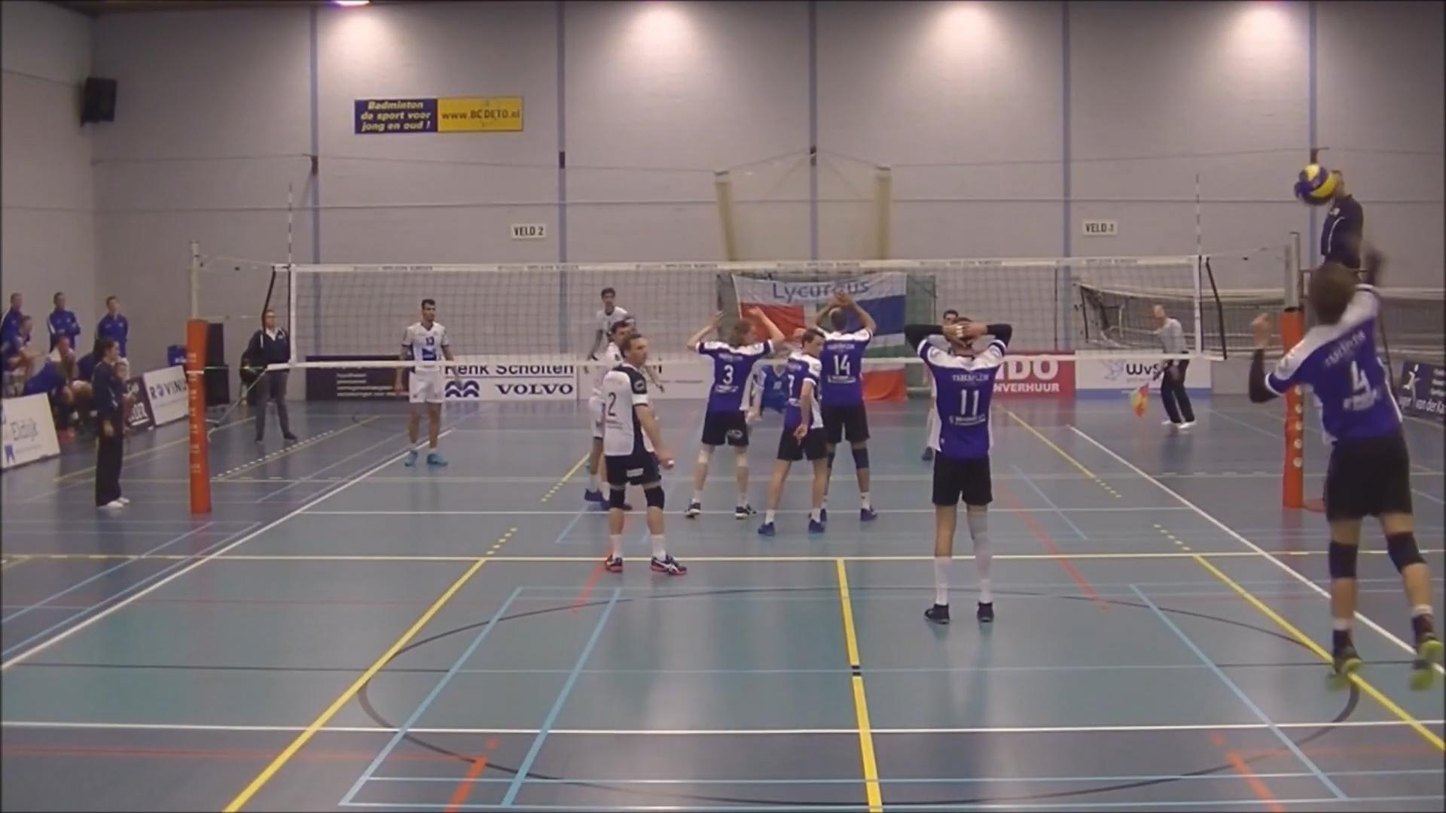Player: (905, 321, 1011, 623), (685, 308, 782, 519), (602, 333, 686, 575), (758, 329, 827, 536), (815, 291, 876, 521), (584, 319, 634, 504), (399, 298, 453, 467), (746, 329, 804, 425), (589, 288, 630, 359), (921, 376, 937, 461)
Serve: (1245, 222, 1446, 700)
ball: (1297, 165, 1336, 201)
